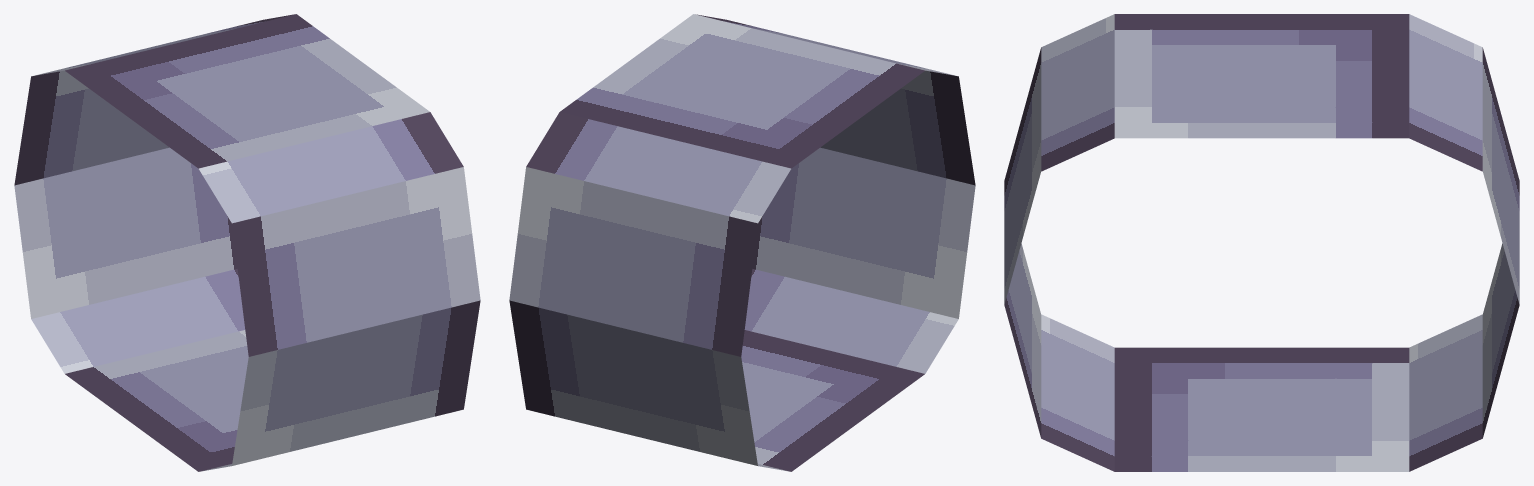
Rendered from hall_default.fbx.
The picture shows the model from 3 angles, left to right: view 1: azimuth 30°, elevation 25°; view 2: azimuth 150°, elevation 25°; view 3: azimuth 270°, elevation 25°; orthographic projection. The views are drawn at different scales.
Visible parts, largest first — view 1: wall_left, wall_right, floor_1, floor_right_1, floor, floor_right, floor_left_1; view 2: wall_right, wall_left, floor_1, floor_left_1, floor, floor_left, floor_right_1; view 3: floor_1, floor, floor_right_1, floor_left_1, floor_left, floor_right, wall_left, wall_right.
Boxes of the visible parts, x1=… form: wall_left: x1=232, y1=167, x2=480, y2=465; wall_right: x1=14, y1=70, x2=237, y2=318; floor_1: x1=65, y1=14, x2=429, y2=168; floor_right_1: x1=199, y1=112, x2=463, y2=223; floor: x1=65, y1=330, x2=248, y2=471; floor_right: x1=31, y1=269, x2=245, y2=373; floor_left_1: x1=34, y1=14, x2=292, y2=75; wall_right: x1=509, y1=167, x2=757, y2=465; wall_left: x1=752, y1=70, x2=975, y2=318; floor_1: x1=560, y1=14, x2=924, y2=168; floor_left_1: x1=526, y1=112, x2=790, y2=223; floor: x1=741, y1=330, x2=924, y2=471; floor_left: x1=744, y1=269, x2=958, y2=373; floor_right_1: x1=697, y1=14, x2=955, y2=75; floor_1: x1=1114, y1=14, x2=1409, y2=138; floor: x1=1114, y1=347, x2=1409, y2=471; floor_right_1: x1=1041, y1=14, x2=1114, y2=171; floor_left_1: x1=1409, y1=14, x2=1482, y2=171; floor_left: x1=1041, y1=314, x2=1114, y2=471; floor_right: x1=1409, y1=314, x2=1482, y2=471; wall_left: x1=1004, y1=47, x2=1041, y2=438; wall_right: x1=1482, y1=47, x2=1519, y2=438.
Bounding box in the file's own units: 25 × 31.25 × 43.75.
1 material, 1 textured.
